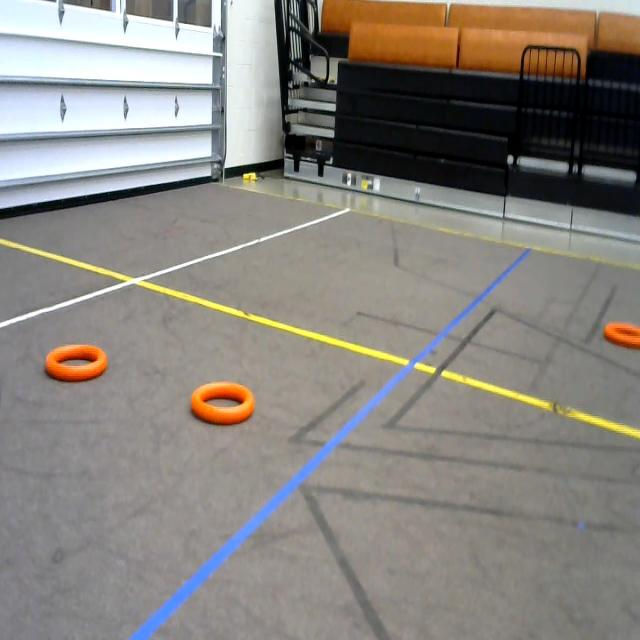note: (36, 332, 134, 395), (185, 376, 265, 429), (603, 308, 640, 360)
